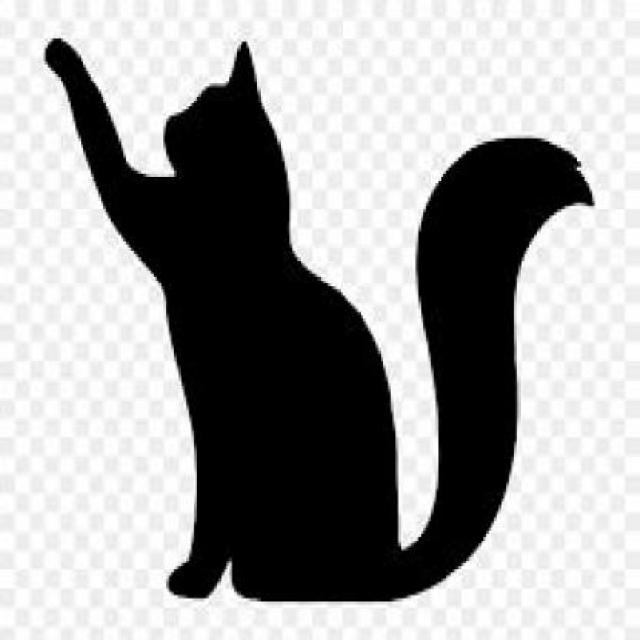animals: (38, 32, 594, 605)
